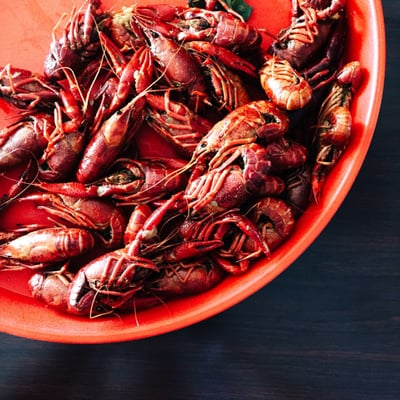sushi: (5, 0, 383, 342)
